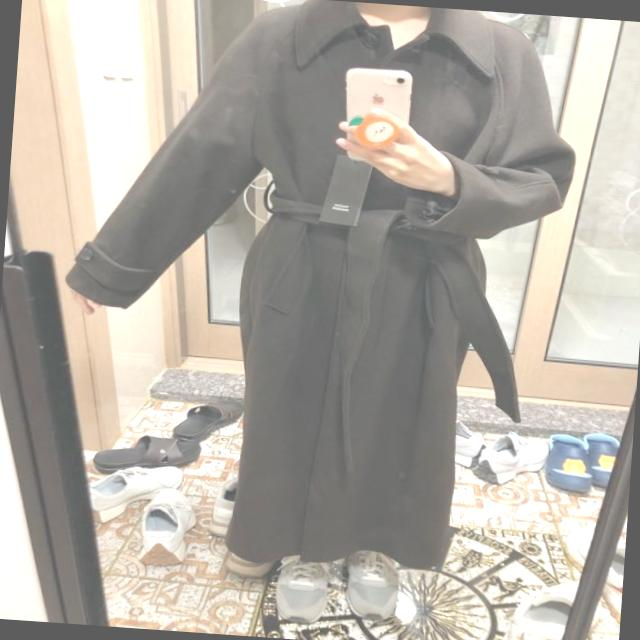coat: (43, 0, 582, 585)
